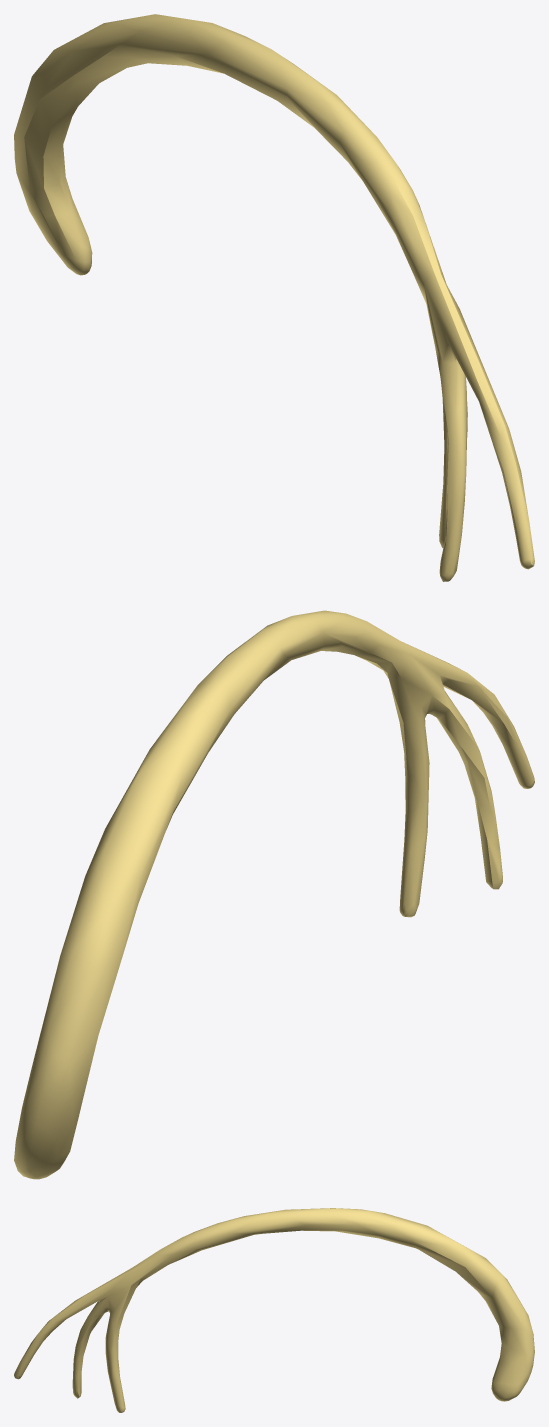
Rendered from fma73413_fj1824.glb.
The picture shows the model from 3 angles, top to bottom: view 1: azimuth 30°, elevation 25°; view 2: azimuth 150°, elevation 25°; view 3: azimuth 270°, elevation 25°; orthographic projection. The views are drawn at different scales.
Visible parts, largest first — view 1: FMA73413_FJ1824; view 2: FMA73413_FJ1824; view 3: FMA73413_FJ1824.
Boxes of the visible parts, <box> form: FMA73413_FJ1824: <box>14,14,534,581</box>; FMA73413_FJ1824: <box>14,610,534,1179</box>; FMA73413_FJ1824: <box>14,1208,534,1412</box>.
Bounding box in the file's own units: 0.0038 × 0.0156 × 0.0368.
